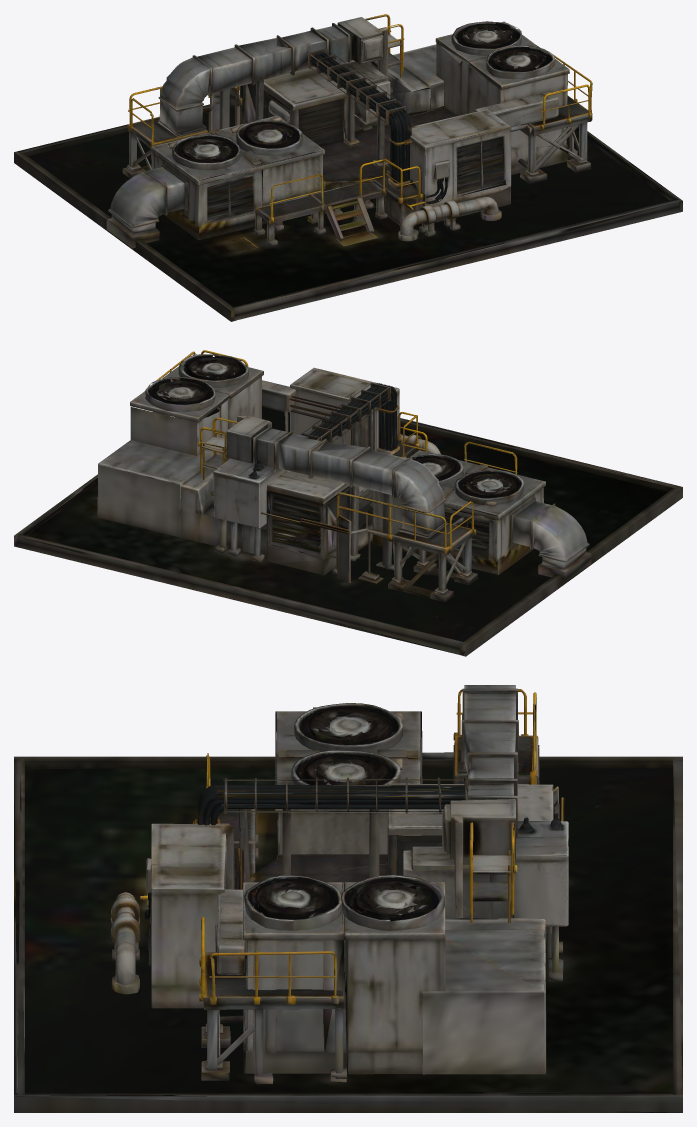
Rendered from hvac.glb.
The picture shows the model from 3 angles, top to bottom: view 1: azimuth 30°, elevation 25°; view 2: azimuth 150°, elevation 25°; view 3: azimuth 270°, elevation 25°; orthographic projection. The views are drawn at different scales.
Parts seen in each view (by area): view 1: hvac; view 2: hvac; view 3: hvac.
Boxes of the visible parts, <box> form: hvac: <box>14,14,682,321</box>; hvac: <box>14,350,682,656</box>; hvac: <box>14,685,682,1112</box>.
Size of the model in its own units: 9 by 2.2 by 7.43.
Materials: 1 (1 with a texture image).
